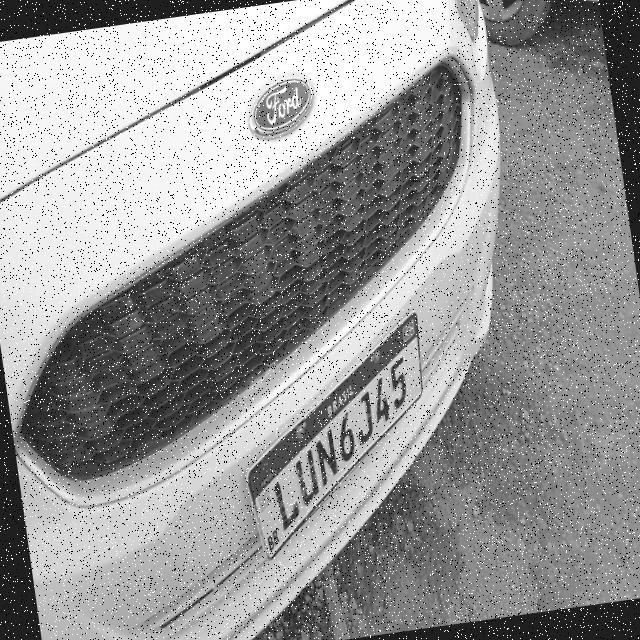numeros: (292, 445, 322, 507), (272, 477, 304, 533), (312, 427, 340, 489), (351, 388, 377, 448), (387, 353, 411, 411), (334, 409, 358, 463), (370, 375, 392, 425)
